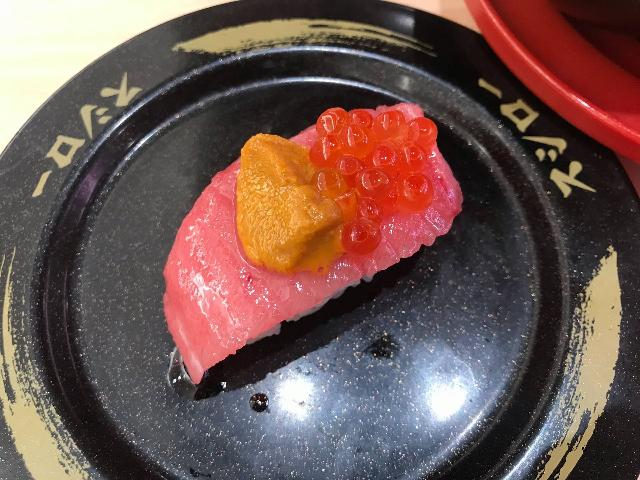janback: (42, 13, 615, 480)
janred: (489, 0, 640, 138)
